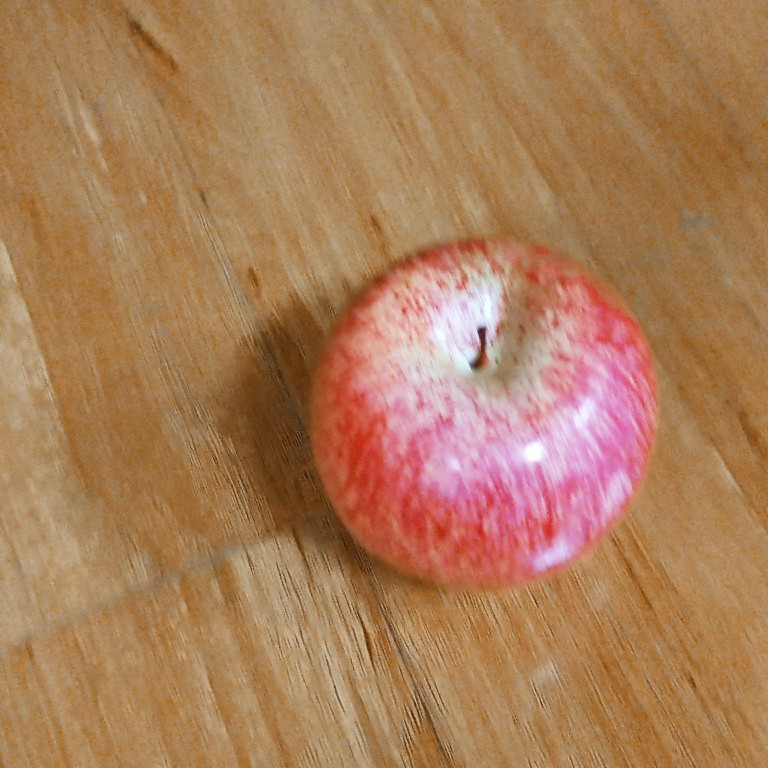fruit_apple: (301, 231, 664, 597)
